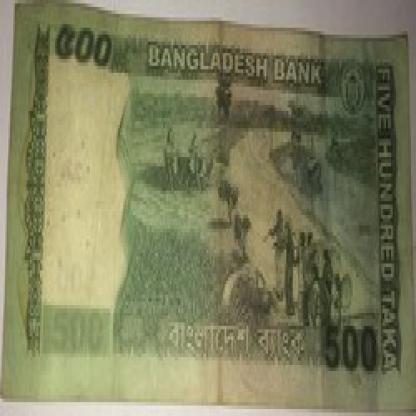500 taka: (316, 312, 401, 402), (52, 21, 130, 80)
currency: (13, 10, 413, 399)
